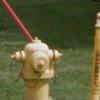Hydrant: (9, 31, 65, 98)
